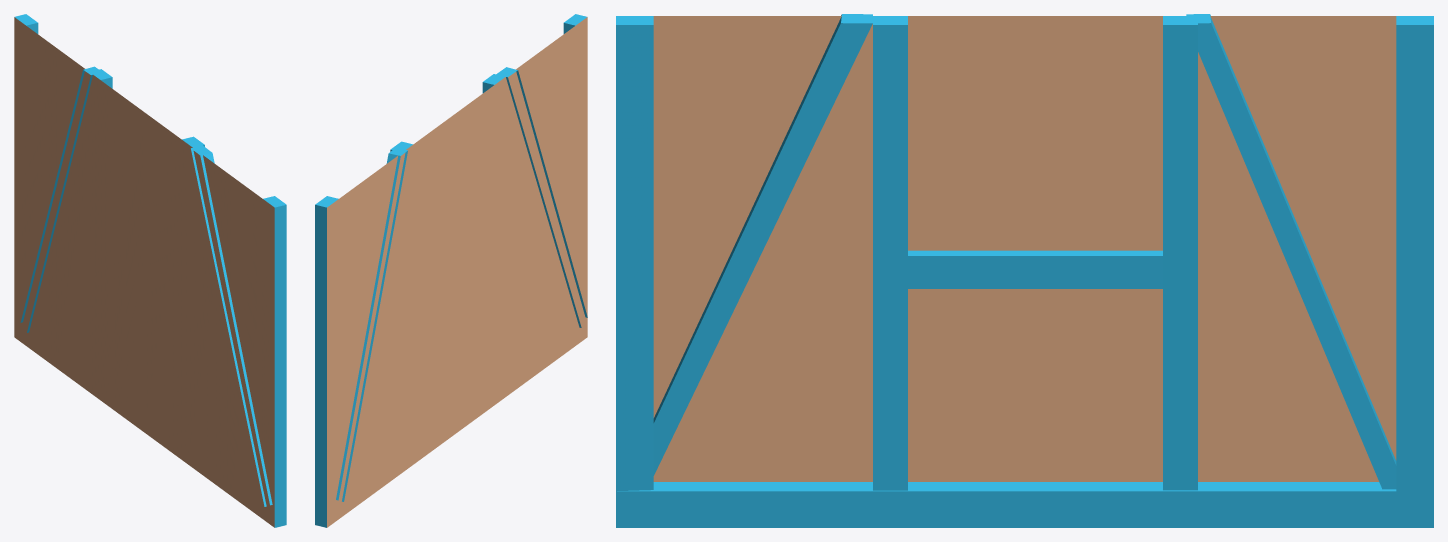
File: Wall_01.fbx
3 renders of one model, left to right at view 1: azimuth 30°, elevation 25°; view 2: azimuth 150°, elevation 25°; view 3: azimuth 270°, elevation 25°, orthographic. The views are drawn at different scales.
Parts seen in each view (by area): view 1: Wall_01; view 2: Wall_01; view 3: Wall_01.
Part boxes in pixels (<box>): Wall_01: <box>14,14,286,527</box>; Wall_01: <box>315,14,587,527</box>; Wall_01: <box>616,14,1433,527</box>.
Size of the model in its own units: 21.85 by 462 by 680.
